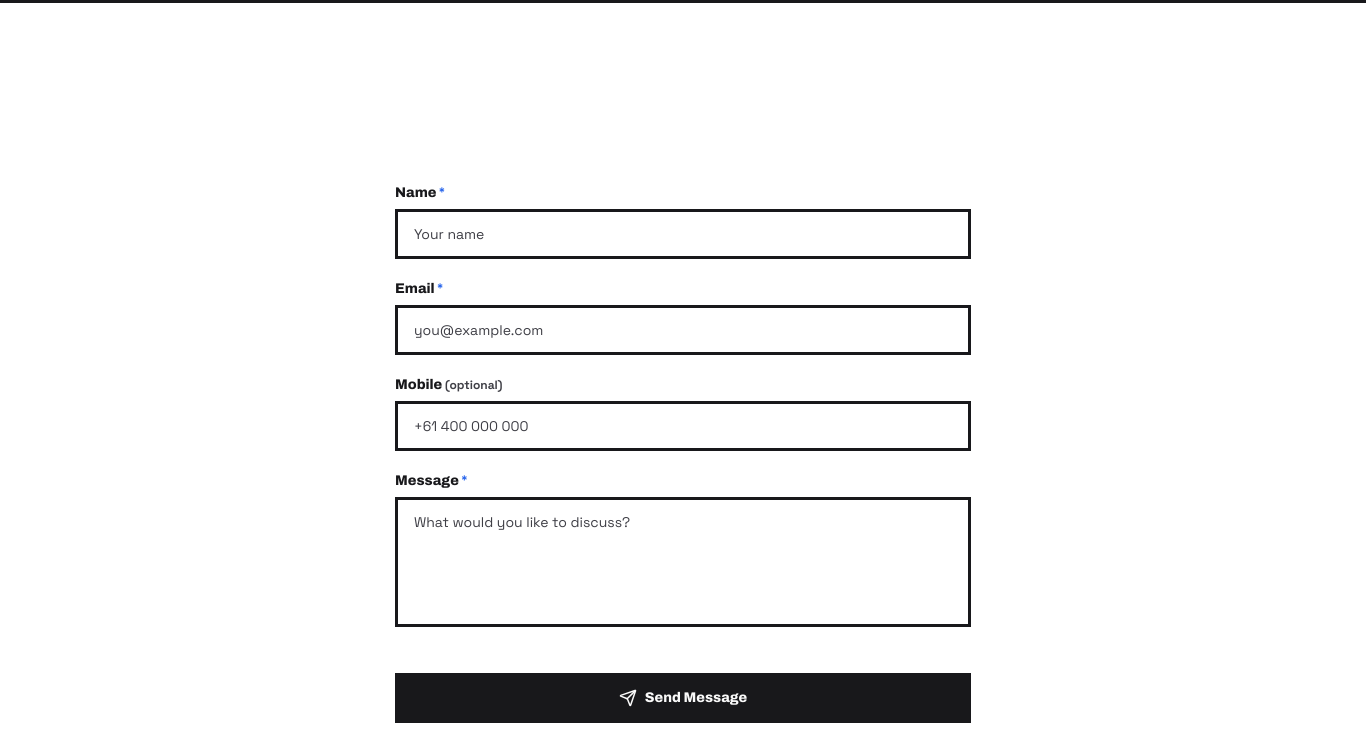
Scenario: ContactForm › shows validation errors when submitting empty form
Step 1. Click the button "Send Message" → (683, 698), box [395, 673, 971, 723]
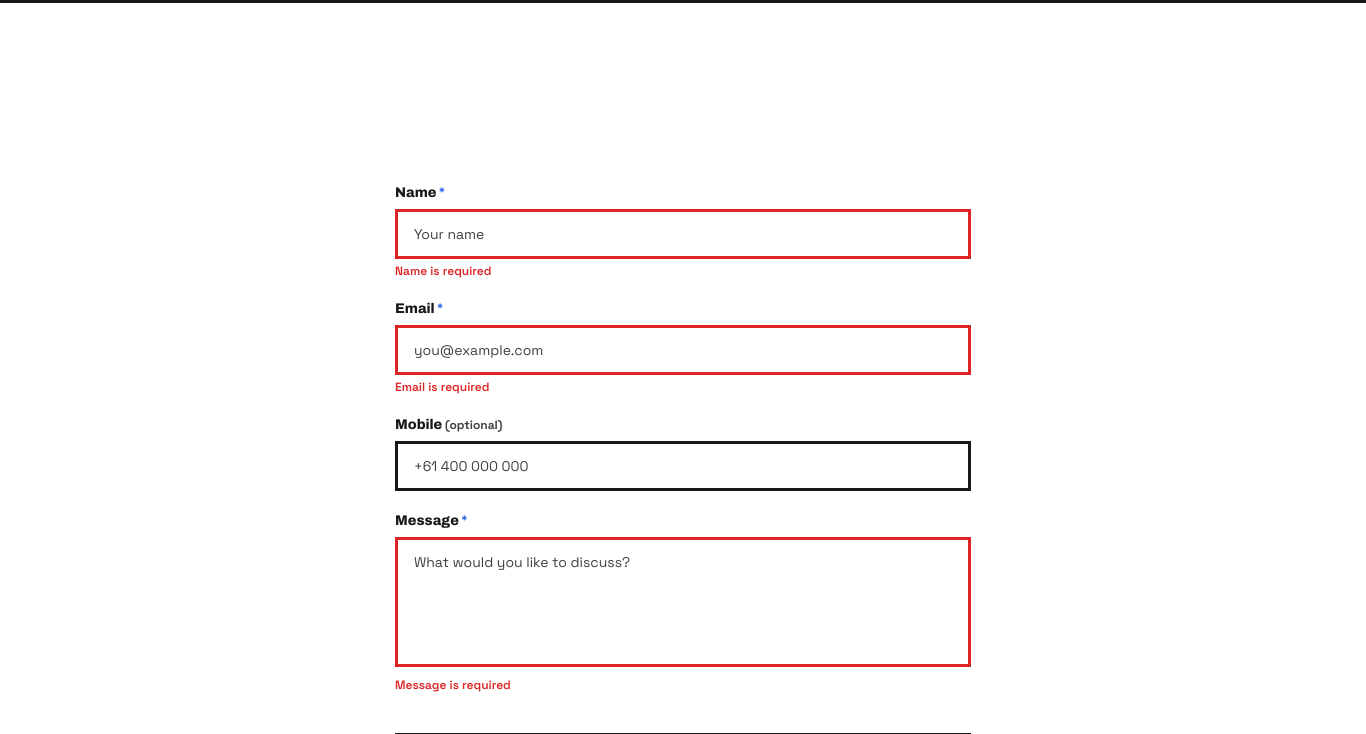
Expected: the text "Name is required" is shown, [395, 263, 492, 279]
Expected: the text "Email is required" is shown, [395, 379, 489, 395]
Expected: the text "Message is required" is shown, [395, 677, 511, 693]
